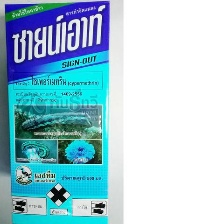carton: (2, 0, 113, 224)
